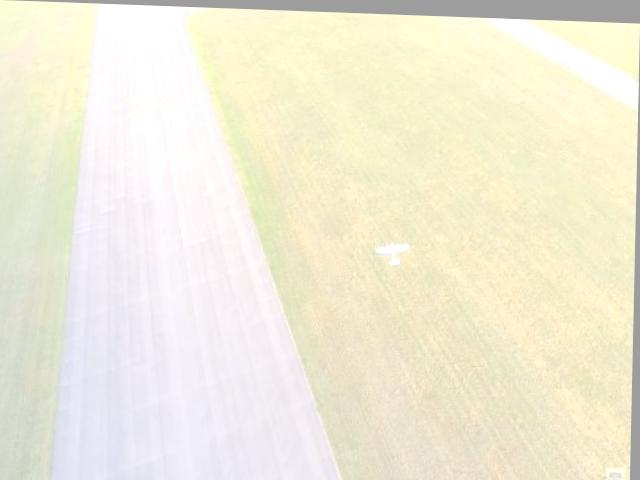uav: (376, 236, 410, 263)
